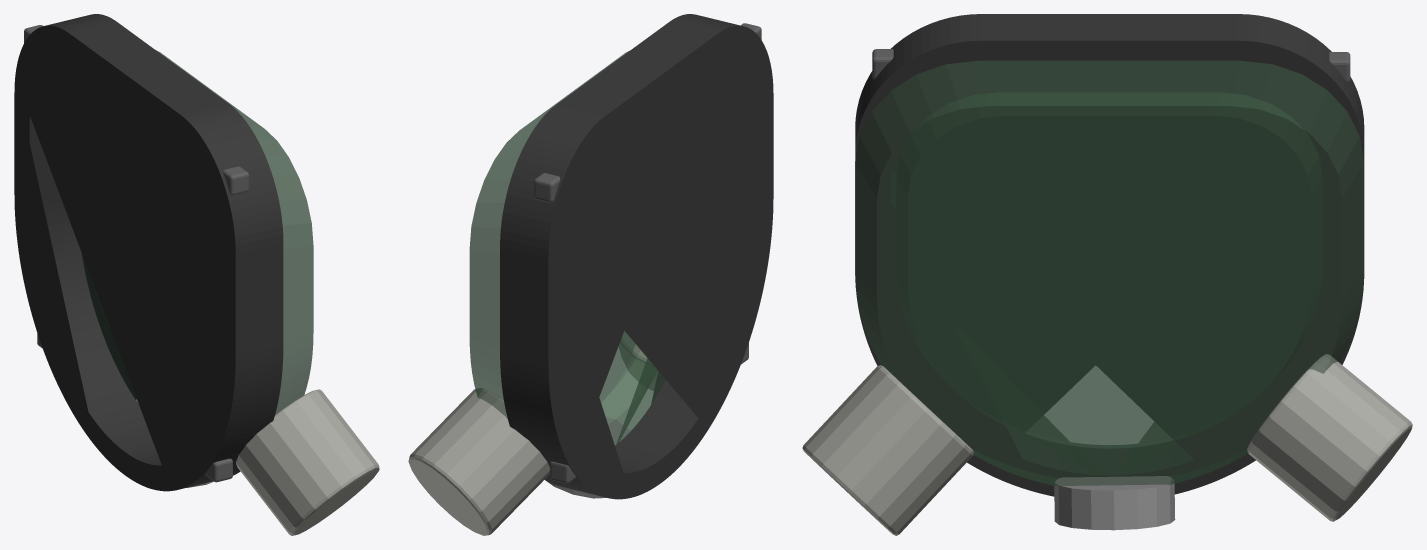
The model's file is hazmatNewMask.fbx.
3 views of the same model, side by side, from view 1: azimuth 30°, elevation 25°; view 2: azimuth 150°, elevation 25°; view 3: azimuth 270°, elevation 25° (orthographic). The views are drawn at different scales.
Parts seen in each view (by area): view 1: maskconnection, HazmatMask_Canister_R, new glass, HazmatMask_StrapAnchor_TL, HazmatMask_StrapAnchor_BL; view 2: maskconnection, new glass, HazmatMask_Canister_L, HazmatMask_Canister_R, HazmatMask_StrapAnchor_TR, HazmatMask_ExhaleValve, HazmatMask_StrapAnchor_BR; view 3: maskconnection, new glass, HazmatMask_Canister_L, HazmatMask_Canister_R, HazmatMask_ExhaleValve.
Boxes of the visible parts, x1=… form: maskconnection: x1=14, y1=14, x2=283, y2=491; HazmatMask_Canister_R: x1=236, y1=389, x2=379, y2=535; new glass: x1=81, y1=50, x2=313, y2=414; HazmatMask_StrapAnchor_TL: x1=223, y1=166, x2=249, y2=195; HazmatMask_StrapAnchor_BL: x1=205, y1=458, x2=232, y2=482; maskconnection: x1=500, y1=14, x2=773, y2=499; new glass: x1=469, y1=51, x2=665, y2=445; HazmatMask_Canister_L: x1=408, y1=388, x2=549, y2=535; HazmatMask_Canister_R: x1=619, y1=331, x2=657, y2=390; HazmatMask_StrapAnchor_TR: x1=534, y1=173, x2=560, y2=202; HazmatMask_ExhaleValve: x1=547, y1=416, x2=630, y2=498; HazmatMask_StrapAnchor_BR: x1=550, y1=461, x2=576, y2=483; maskconnection: x1=855, y1=14, x2=1364, y2=496; new glass: x1=855, y1=60, x2=1363, y2=486; HazmatMask_Canister_L: x1=1247, y1=354, x2=1412, y2=521; HazmatMask_Canister_R: x1=802, y1=365, x2=973, y2=535; HazmatMask_ExhaleValve: x1=1054, y1=476, x2=1175, y2=530.
Size of the model in its own units: 74.86 by 208 by 240.
